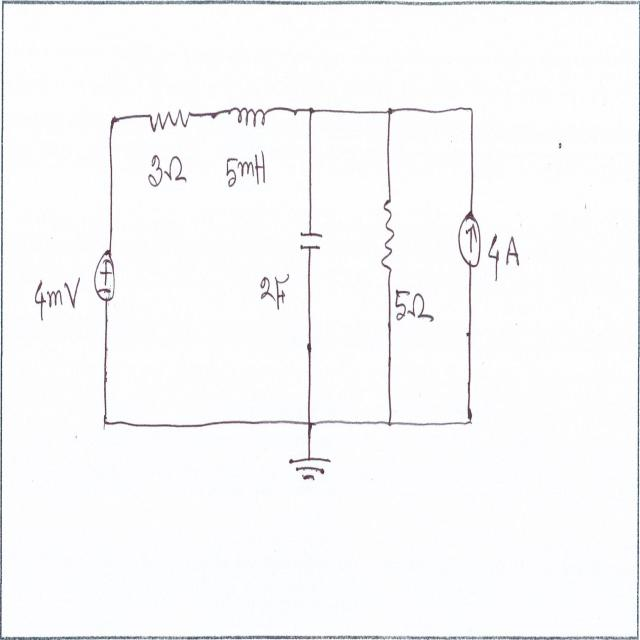capacitor: (378, 186, 399, 278), (296, 218, 326, 258)
current_source: (454, 200, 484, 278)
ground: (286, 449, 334, 492)
inductor: (229, 97, 269, 134)
resistor: (147, 103, 193, 135)
voltage_source: (92, 240, 120, 306)
